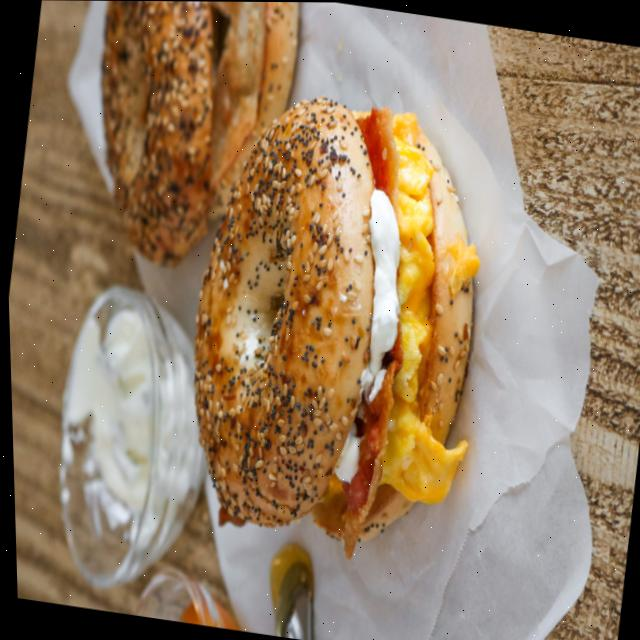Bagel: (192, 96, 374, 526), (100, 1, 209, 263)
